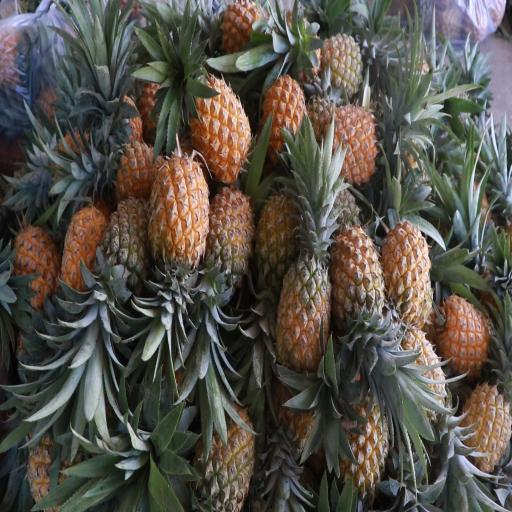------------------------------: (271, 235, 334, 375), (193, 383, 256, 512), (99, 193, 157, 297), (251, 174, 300, 289), (313, 21, 365, 100)
Pineapple - v8 v1: (147, 148, 214, 283), (186, 66, 250, 190), (327, 208, 386, 326), (376, 206, 432, 327), (333, 372, 393, 484), (202, 162, 256, 281), (316, 96, 385, 186), (97, 132, 172, 207), (259, 60, 312, 165), (434, 282, 493, 376), (61, 195, 110, 303), (5, 217, 59, 312), (459, 374, 512, 468)
